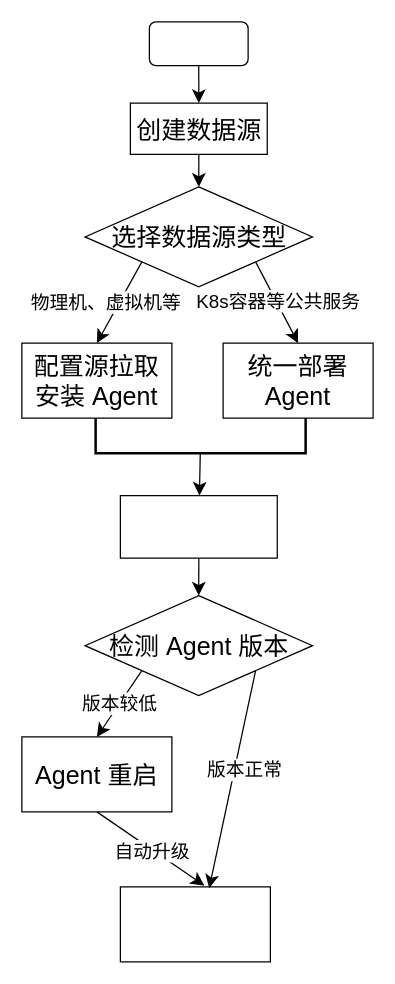
Image size: 395x984. Some labels were removed from this diagram. Each missing label, with the centre of its shape:
"Agent 启动" belongs at [198,526].
"开始" belongs at [198,43].
"拉取采集配置" belongs at [194,924].
